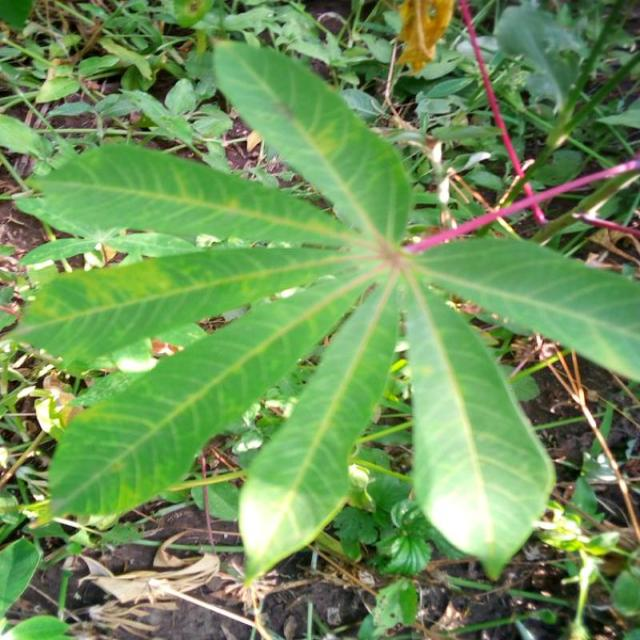cassava leaf: (9, 35, 638, 586), (400, 264, 557, 580)
